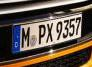3: (63, 19, 69, 39)
5: (69, 18, 75, 37)
7: (75, 16, 82, 36)
9: (56, 20, 63, 41)
M: (21, 26, 30, 48)
P: (38, 24, 46, 45)
X: (46, 22, 53, 43)
